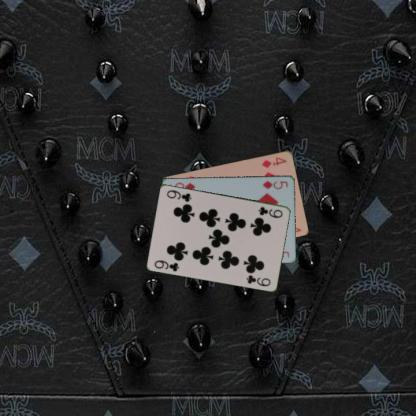4d: (260, 154, 288, 170)
5d: (260, 178, 289, 190)
9c: (152, 257, 181, 272), (256, 204, 284, 219)
